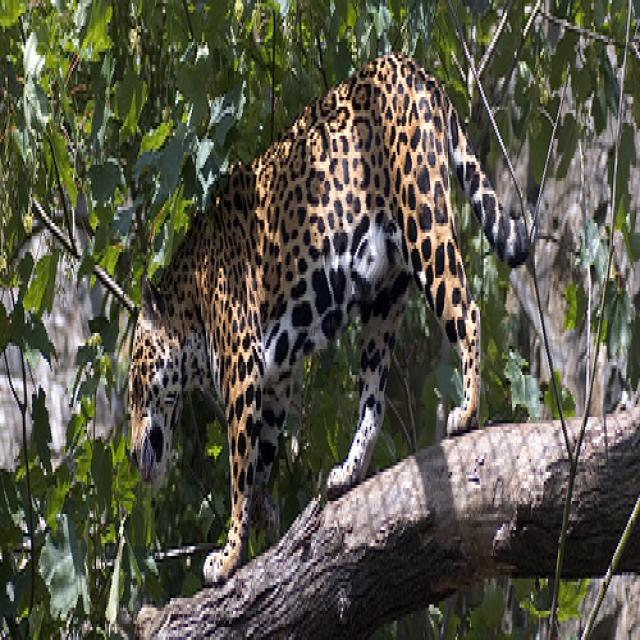Leopard: (119, 36, 543, 588)
